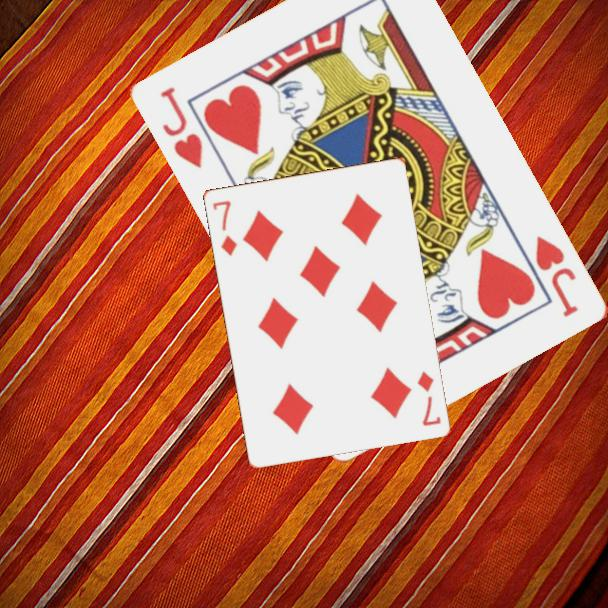d07: (209, 197, 240, 258), (413, 367, 443, 429)
h11: (532, 232, 582, 321), (157, 83, 207, 172)
